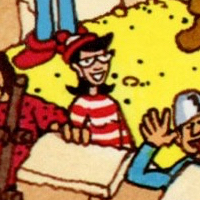wenda: (62, 28, 113, 93)
